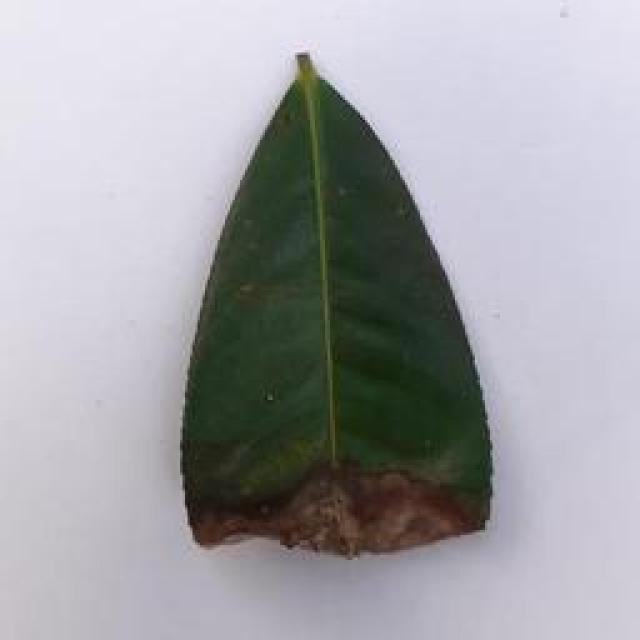Brown Blight: (179, 39, 516, 564)
